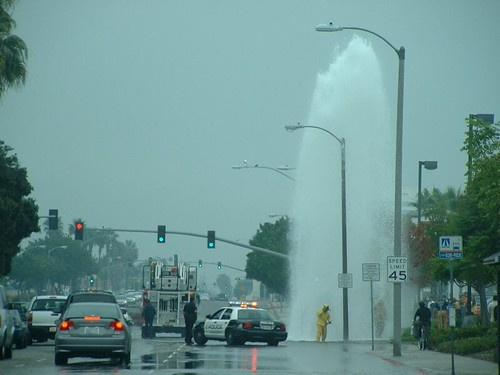pipe burst: (286, 33, 417, 341)
